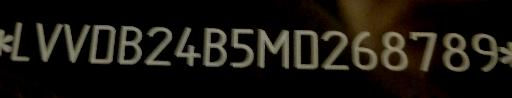letter: (254, 25, 294, 71), (138, 24, 176, 67), (84, 21, 118, 67), (318, 28, 352, 74), (406, 28, 440, 74), (290, 25, 322, 71), (440, 28, 472, 74), (33, 17, 63, 64), (60, 20, 92, 64), (468, 29, 500, 73), (226, 23, 256, 69), (200, 24, 230, 70), (6, 18, 34, 67), (114, 23, 144, 68), (378, 29, 410, 71), (172, 24, 202, 68), (351, 27, 381, 71)
